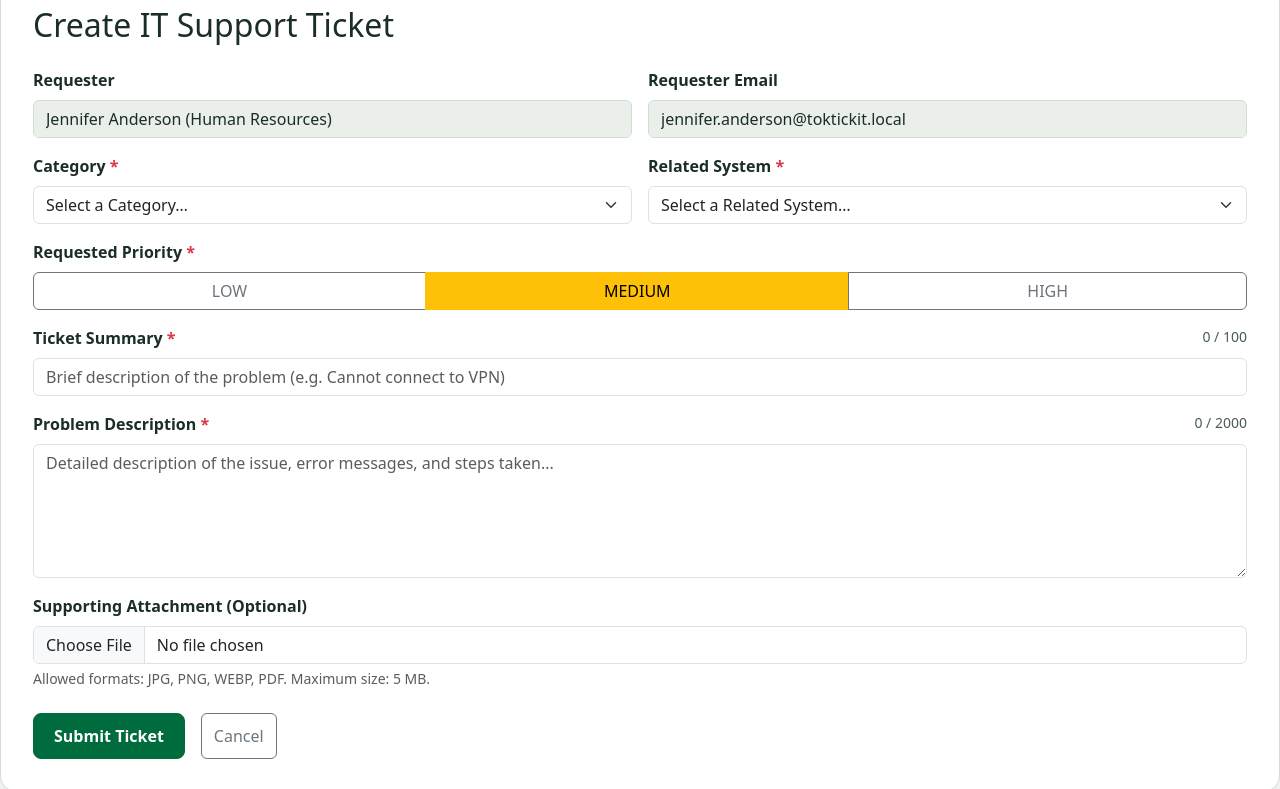
Test: CreateTicket Component › UI-02: shows inline validation errors when submitting with empty or invalid fields
(page scrolled)
Click the button "Submit Ticket" at (109, 736), box [33,713,185,759]
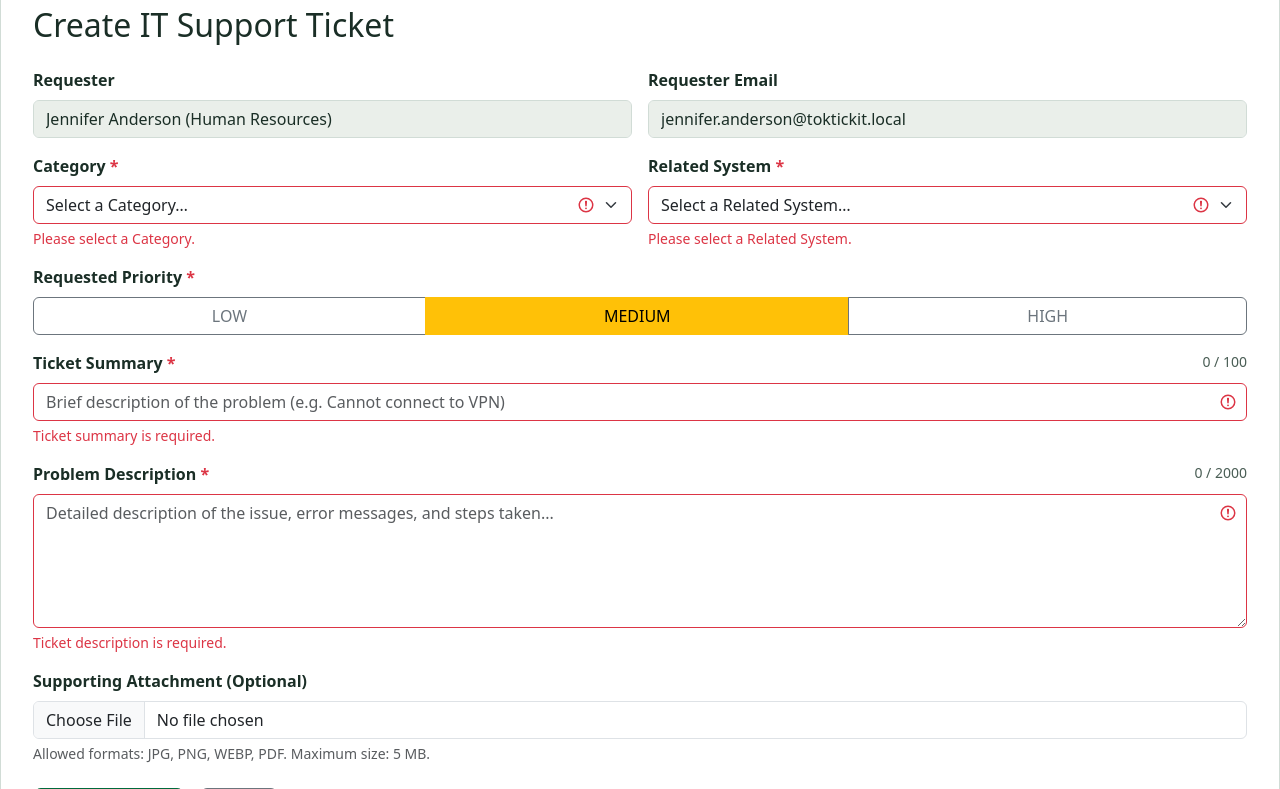
Expected: the text "Ticket summary is required." is shown, [33,426,215,445]
Expected: the text "Ticket description is required." is shown, [33,633,226,652]
Expected: the text "Please select a Category." is shown, [33,229,195,248]
